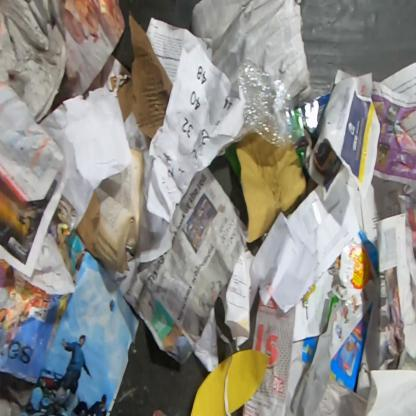cardboard: (234, 132, 307, 244), (116, 5, 173, 140), (65, 189, 102, 283)
soft_plastic: (235, 58, 306, 148)
